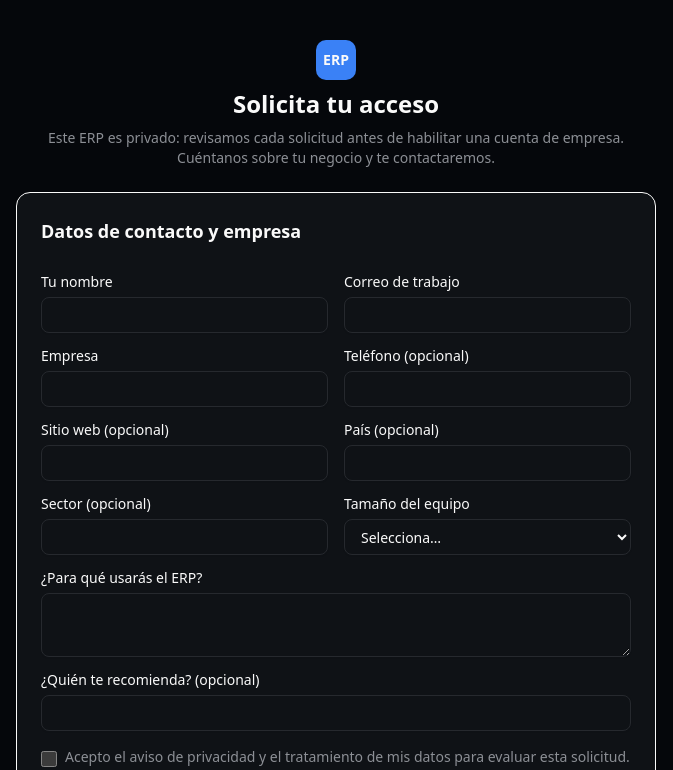
Test case: funnel público de solicitud › muestra el error de la API
Type "Ana" into the field labelled "Tu nombre" at (184, 315), box x1=41 y1=297 x2=328 y2=333
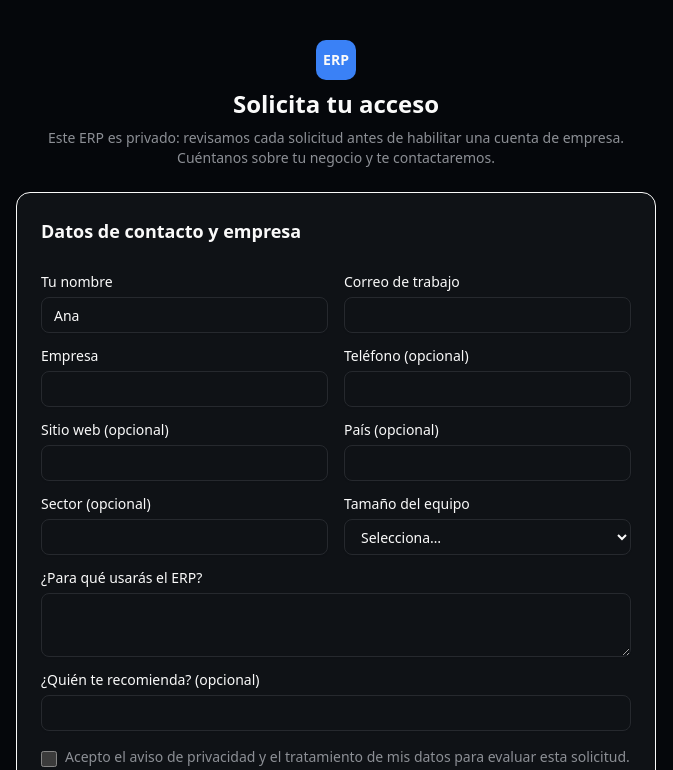
Type "ana@empresa.com" into the field labelled "Correo de trabajo" at (488, 315), box x1=344 y1=297 x2=631 y2=333
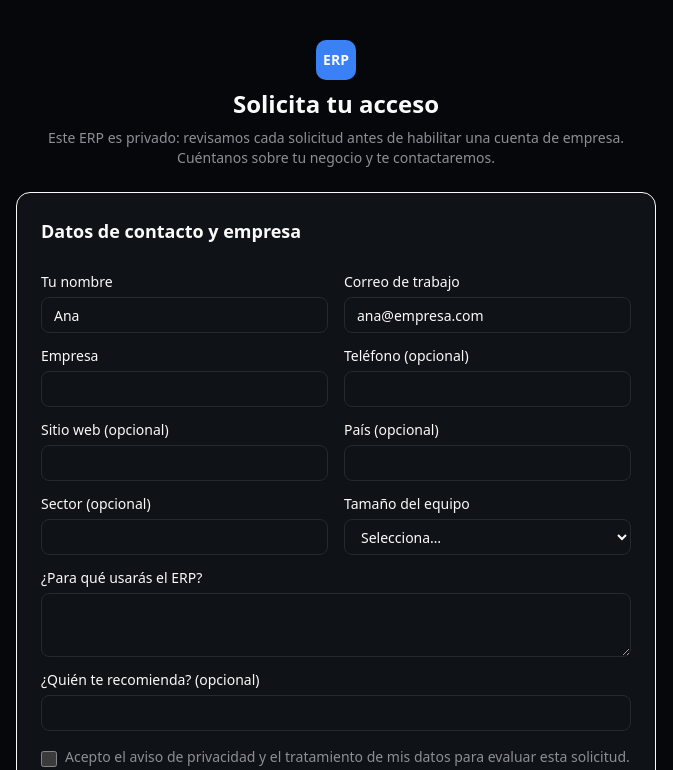
Type "Empresa SA" into the field labelled "Empresa" at (184, 389), box x1=41 y1=371 x2=328 y2=407
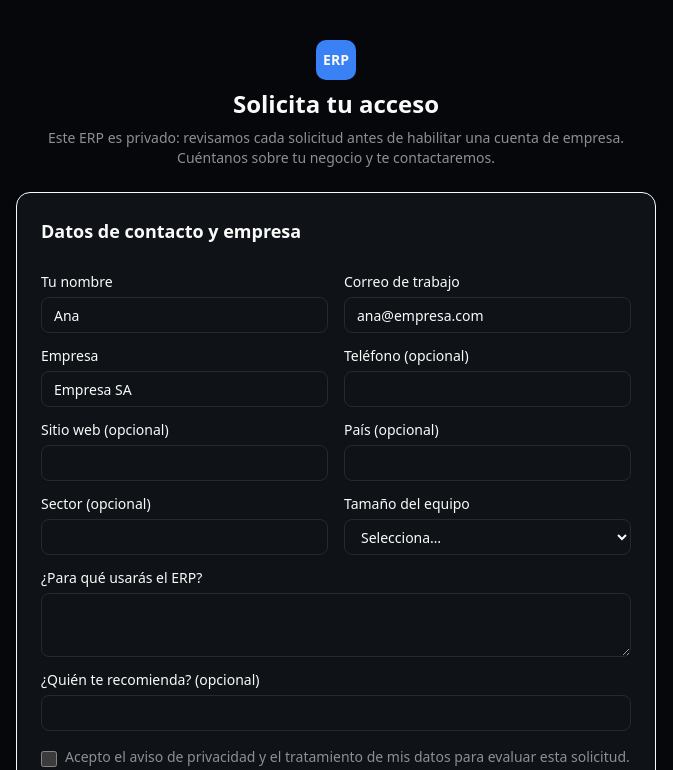
Click the checkbox at (49, 759), box x1=41 y1=751 x2=57 y2=767
(page scrolled)
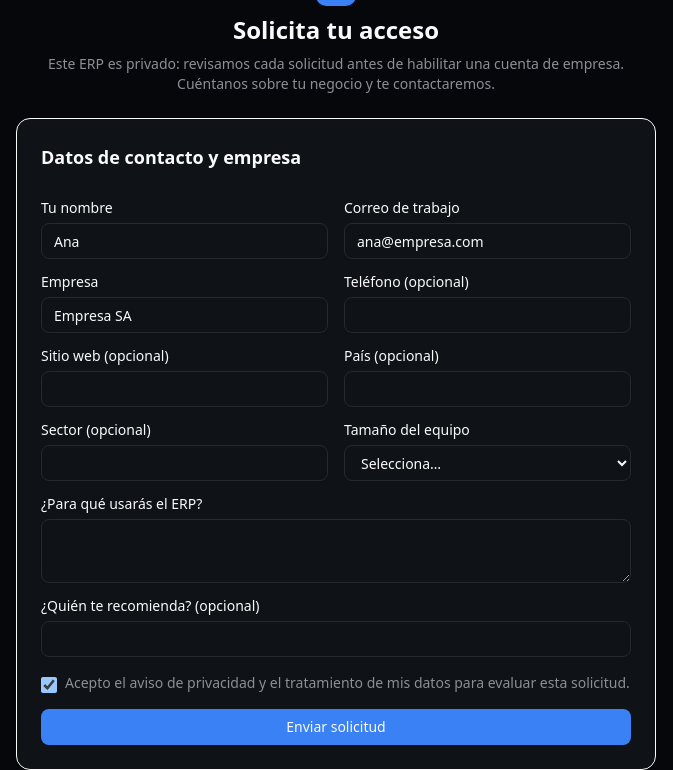
Click the button "Enviar solicitud" at (336, 727), box x1=41 y1=709 x2=631 y2=745
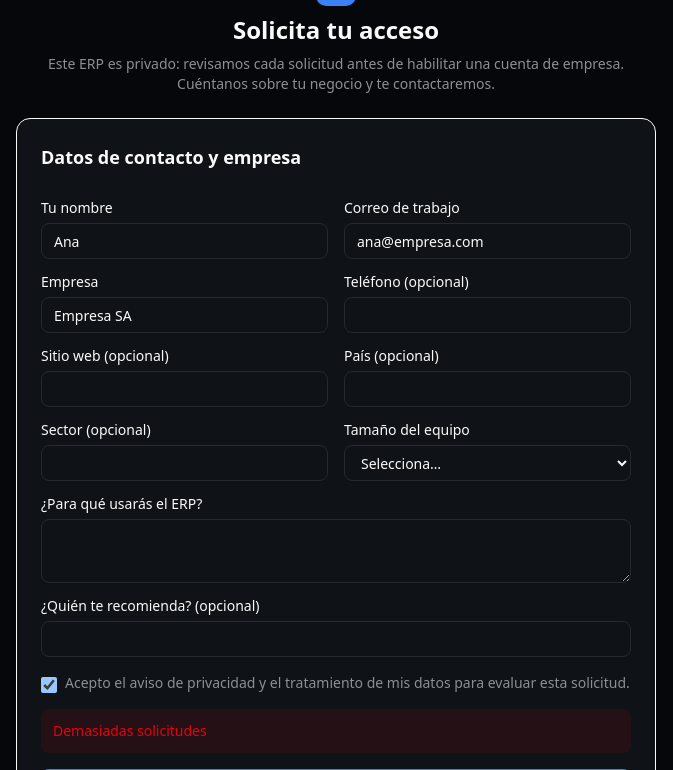
Now the message reads "Demasiadas solicitudes", box x1=53 y1=721 x2=207 y2=740
